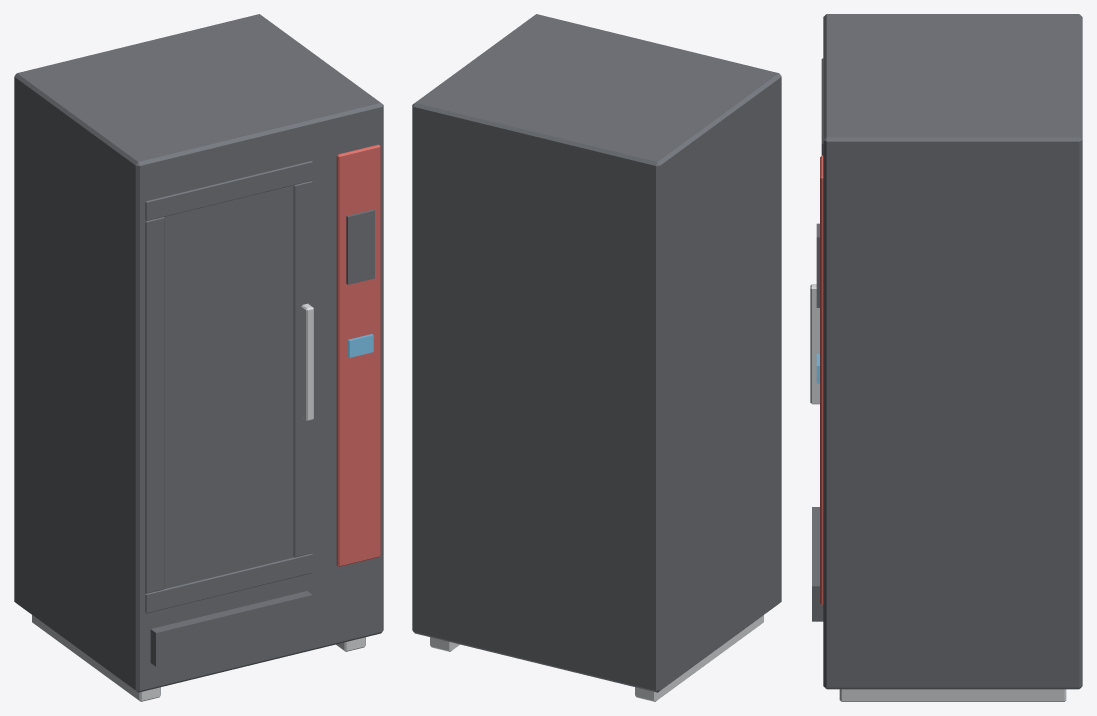
File: community-sports-hall-and-changing-rooms-vending-machi-3def4990.glb
3 renders of one model, left to right at view 1: azimuth 30°, elevation 25°; view 2: azimuth 150°, elevation 25°; view 3: azimuth 270°, elevation 25°, orthographic. The views are drawn at different scales.
Visible parts, largest first — view 1: vending-machine, vending-door/frame, vending-door/metal; view 2: vending-machine; view 3: vending-machine, vending-door/metal.
Part boxes in pixels (x1,y1,x2,y2): vending-machine: (14,14,383,701); vending-door/frame: (145,161,312,613); vending-door/metal: (301,303,313,421); vending-machine: (412,14,781,701); vending-machine: (812,14,1082,701); vending-door/metal: (810,284,819,404).
Size of the model in its own units: 0.9199 by 1.94 by 0.84.
